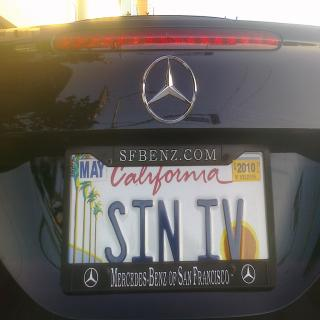license: (62, 140, 279, 294)
